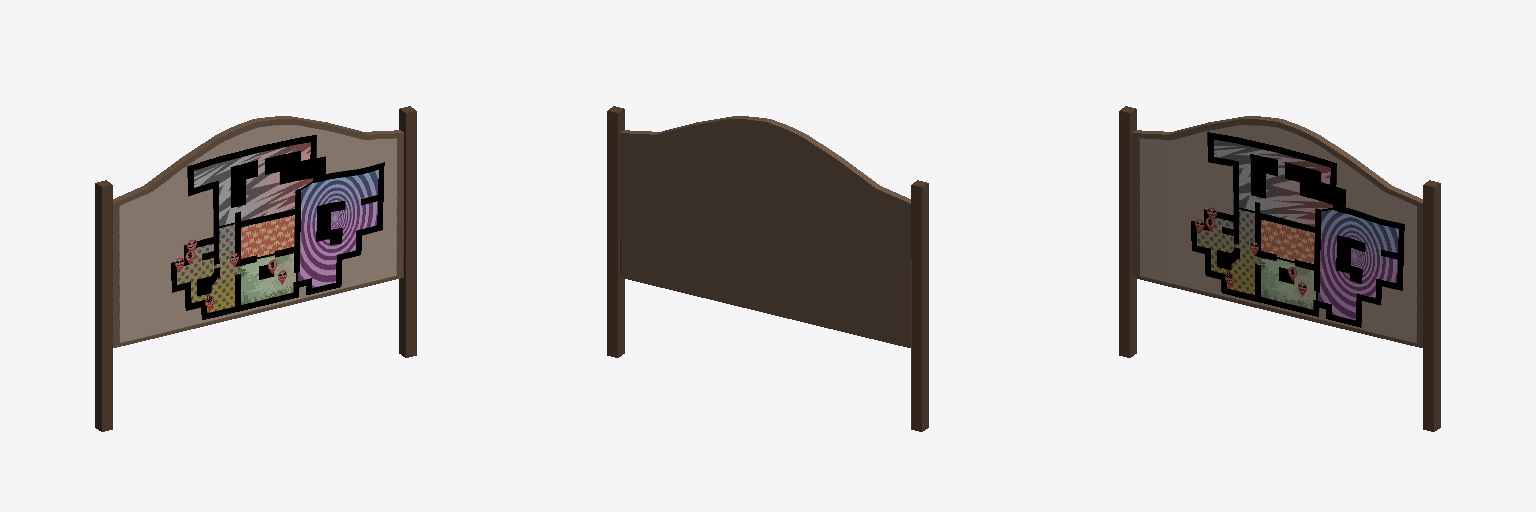
3 renders of one model, left to right at view 1: azimuth 30°, elevation 25°; view 2: azimuth 150°, elevation 25°; view 3: azimuth 330°, elevation 25°, orthographic.
Parts seen in each view (by area): view 1: Cube.002; view 2: Cube.002; view 3: Cube.002.
Boxes of the visible parts, x1,y1,x2,y2 form: Cube.002: [95, 106, 416, 431]; Cube.002: [607, 106, 928, 431]; Cube.002: [1119, 106, 1440, 431].
Size of the model in its own units: 4.35 by 3.58 by 0.1502.
1 materials, 1 textured.